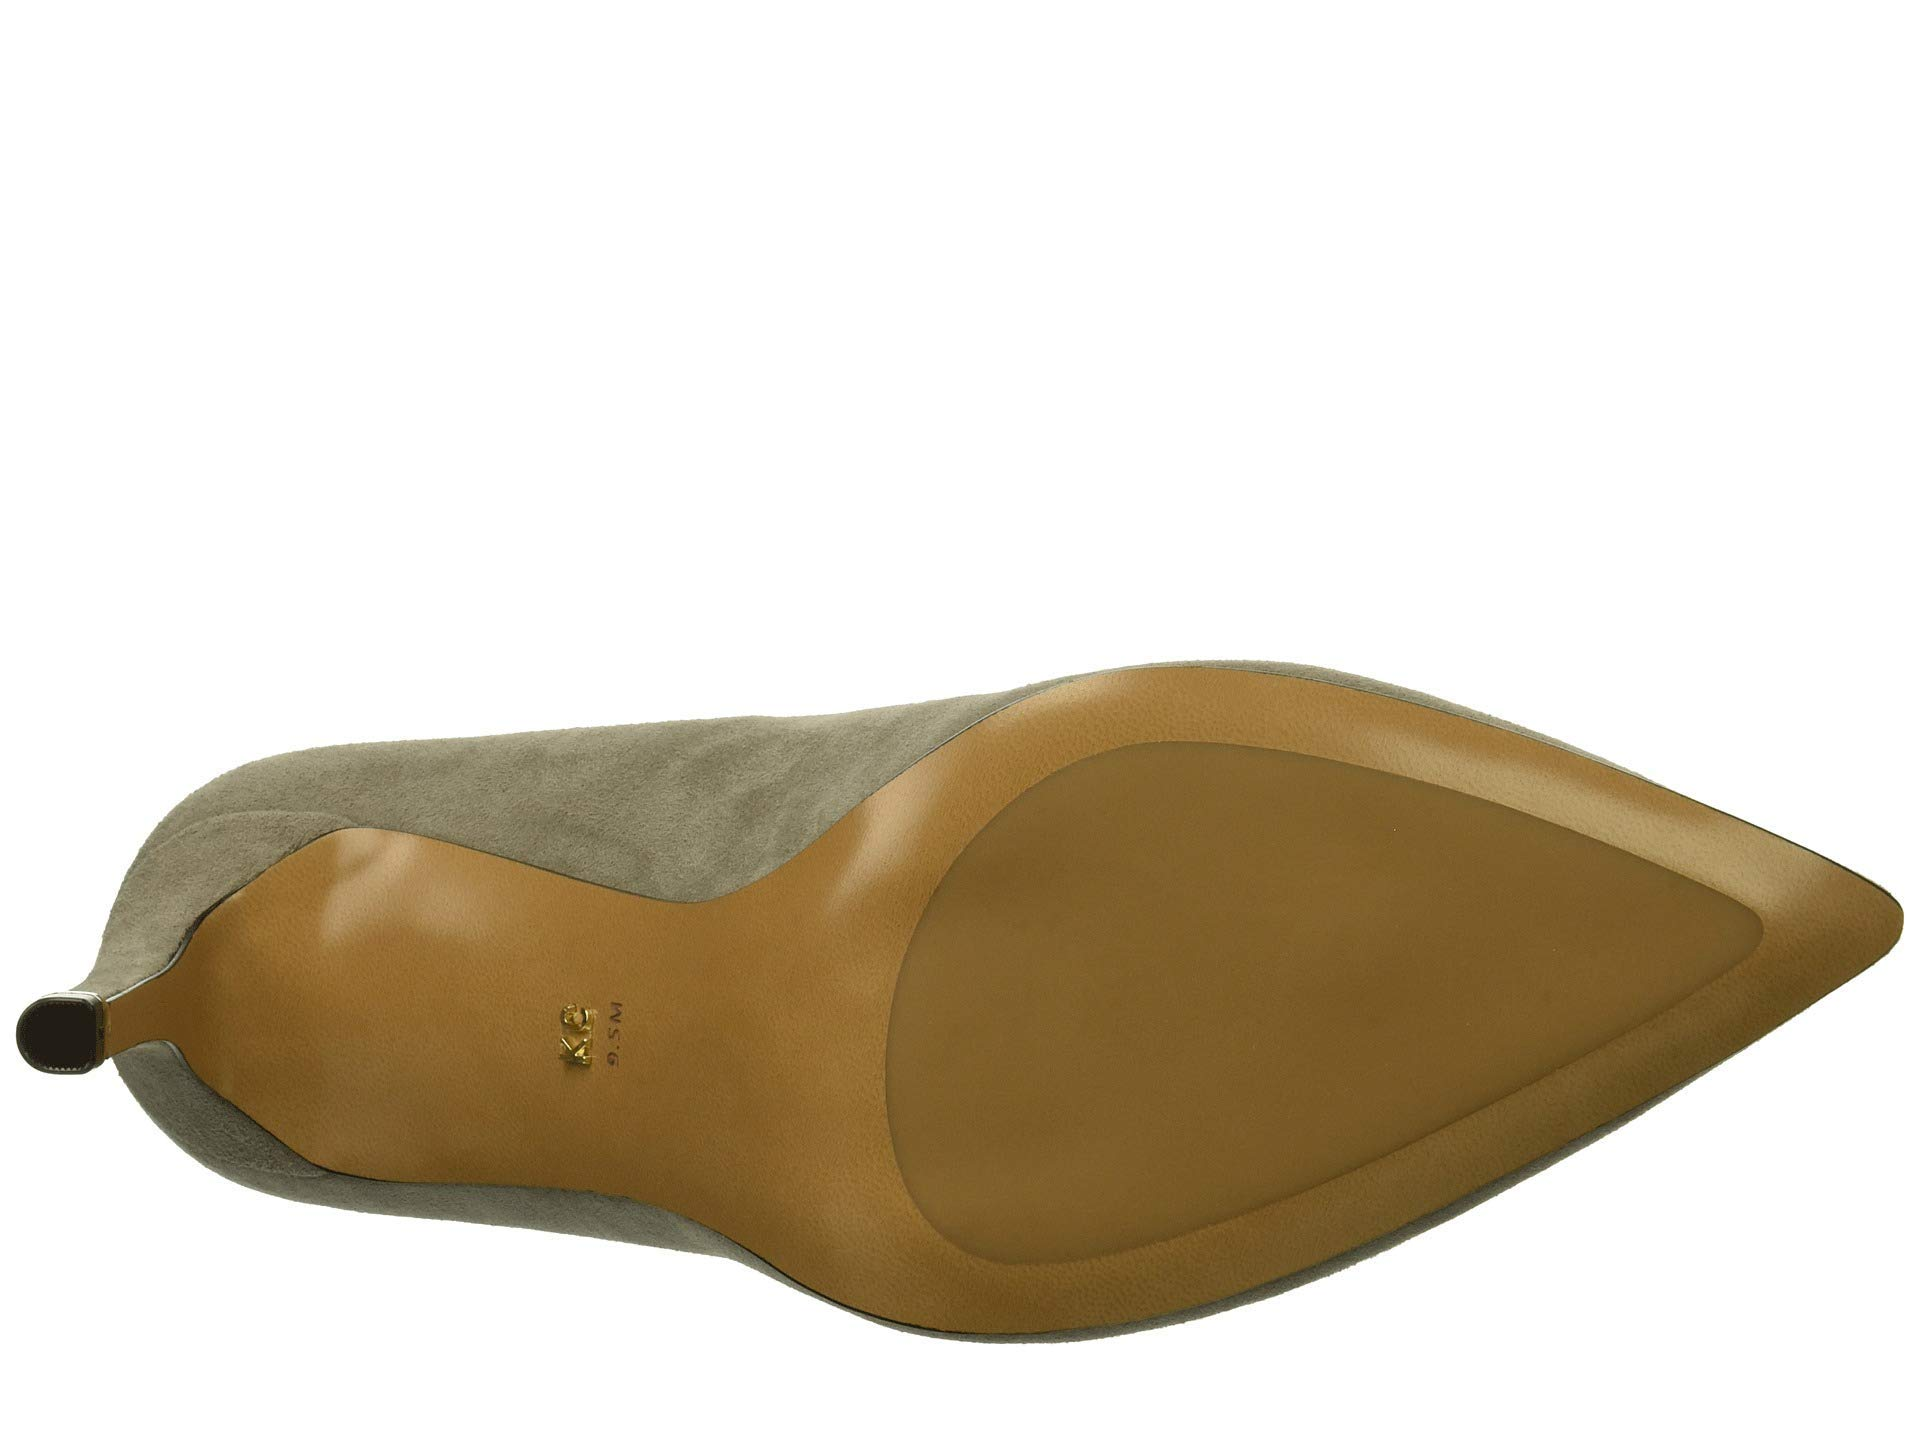circle: (12, 992, 112, 1075)
other: (1119, 794, 1492, 1083)
text: (479, 942, 701, 1110)
